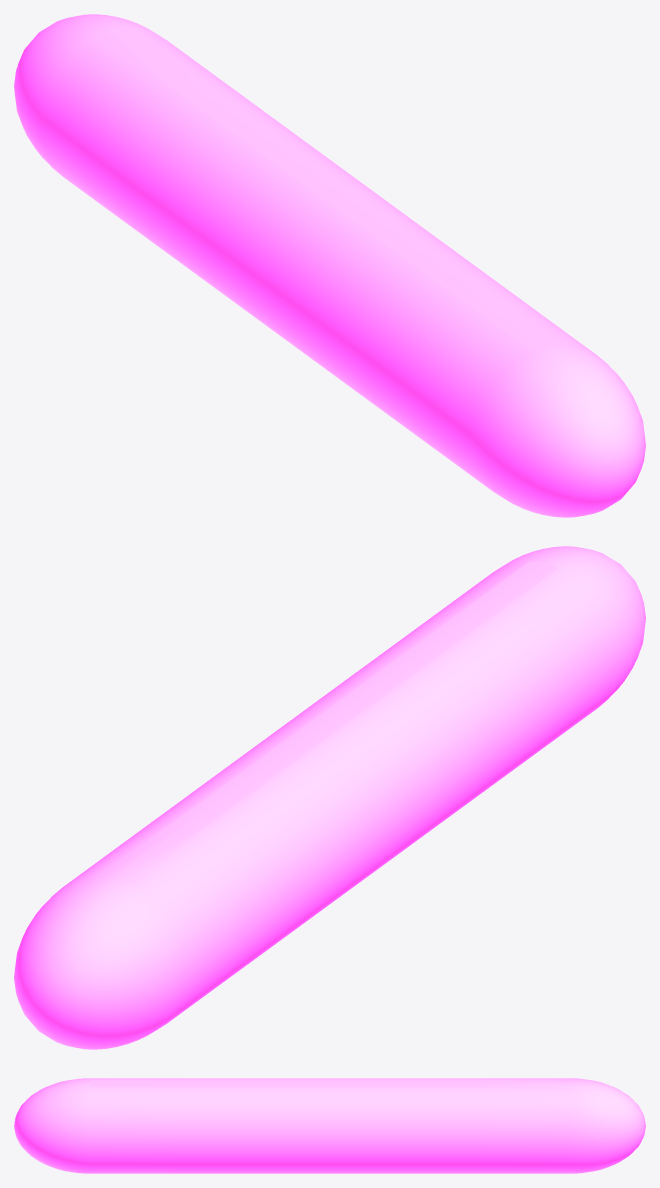
The model's file is Laser.fbx.
3 views of the same model, one above another, from view 1: azimuth 30°, elevation 25°; view 2: azimuth 150°, elevation 25°; view 3: azimuth 270°, elevation 25° (orthographic). The views are drawn at different scales.
Parts seen in each view (by area): view 1: Sphere; view 2: Sphere; view 3: Sphere.
Boxes of the visible parts, <box> form: Sphere: <box>14,14,645,517</box>; Sphere: <box>14,546,645,1049</box>; Sphere: <box>14,1078,645,1173</box>.
Size of the model in its own units: 96.18 by 96.18 by 635.
